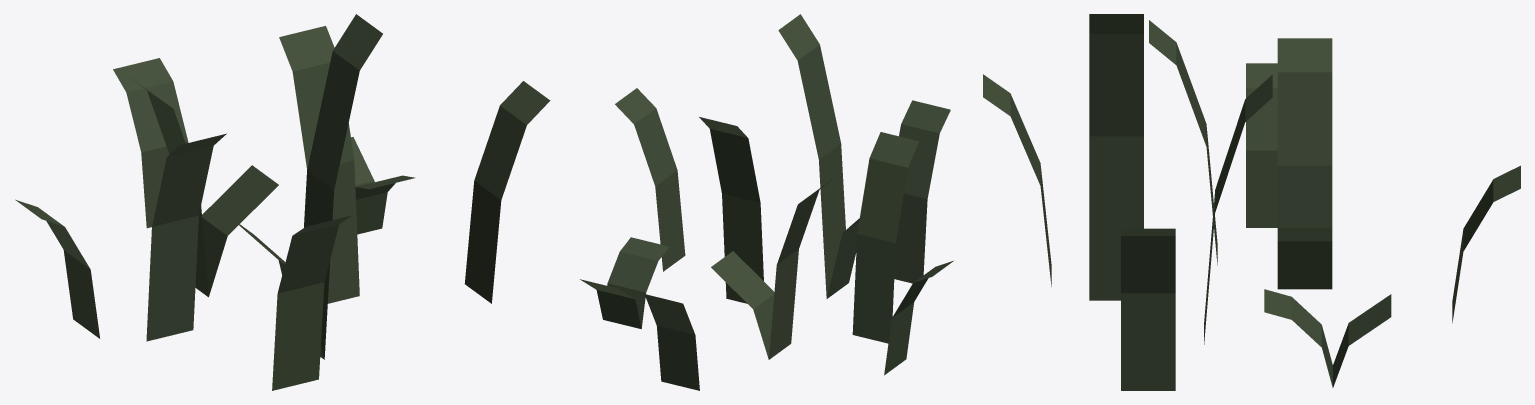
The model's file is gras_kurz.glb.
3 views of the same model, side by side, from view 1: azimuth 30°, elevation 25°; view 2: azimuth 150°, elevation 25°; view 3: azimuth 270°, elevation 25° (orthographic). The views are drawn at different scales.
Parts seen in each view (by area): view 1: gras_kurz; view 2: gras_kurz; view 3: gras_kurz.
Boxes of the visible parts, x1,y1,x2,y2 form: gras_kurz: (15, 14, 550, 390); gras_kurz: (580, 14, 953, 390); gras_kurz: (983, 14, 1520, 390).
Bounding box in the file's own units: 0.3601 × 0.24 × 0.3706.
